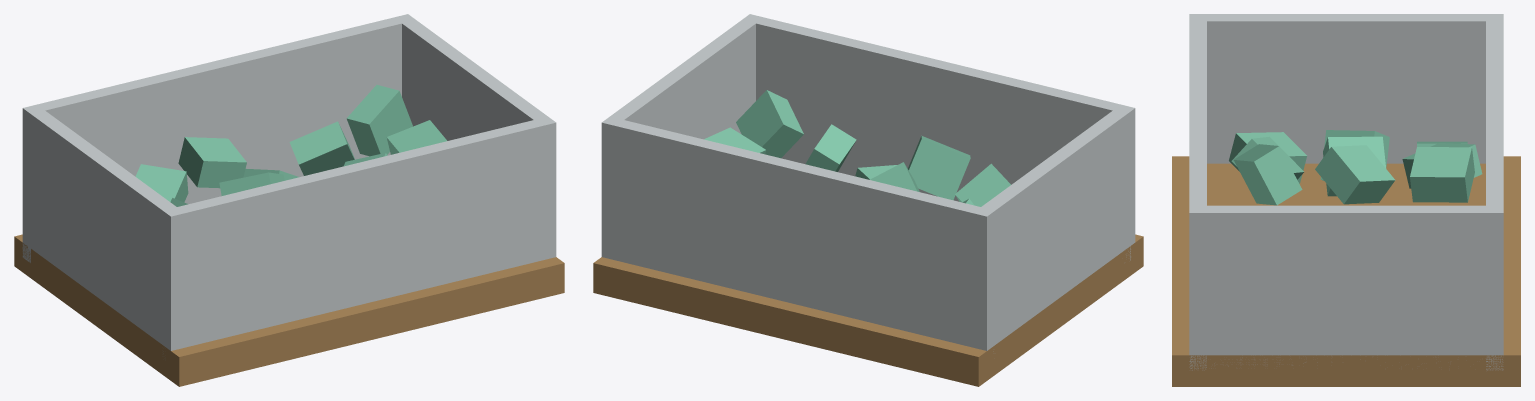
The model's file is CYCLE-021.glb.
3 views of the same model, side by side, from view 1: azimuth 30°, elevation 25°; view 2: azimuth 150°, elevation 25°; view 3: azimuth 270°, elevation 25° (orthographic). The views are drawn at different scales.
Parts seen in each view (by area): view 1: CYCLE-021; view 2: CYCLE-021; view 3: CYCLE-021.
Part boxes in pixels (x1=…): CYCLE-021: x1=14, y1=14, x2=564, y2=386; CYCLE-021: x1=593, y1=14, x2=1143, y2=386; CYCLE-021: x1=1172, y1=14, x2=1520, y2=386.
Size of the model in its own units: 2.7 by 1.1 by 2.
